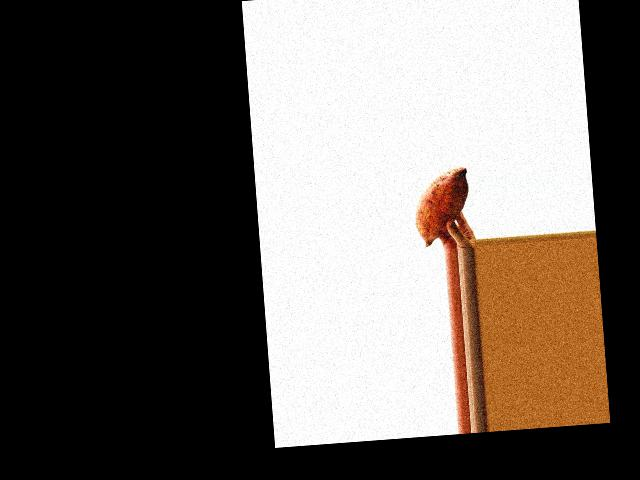sweet_potato: (406, 165, 474, 245)
